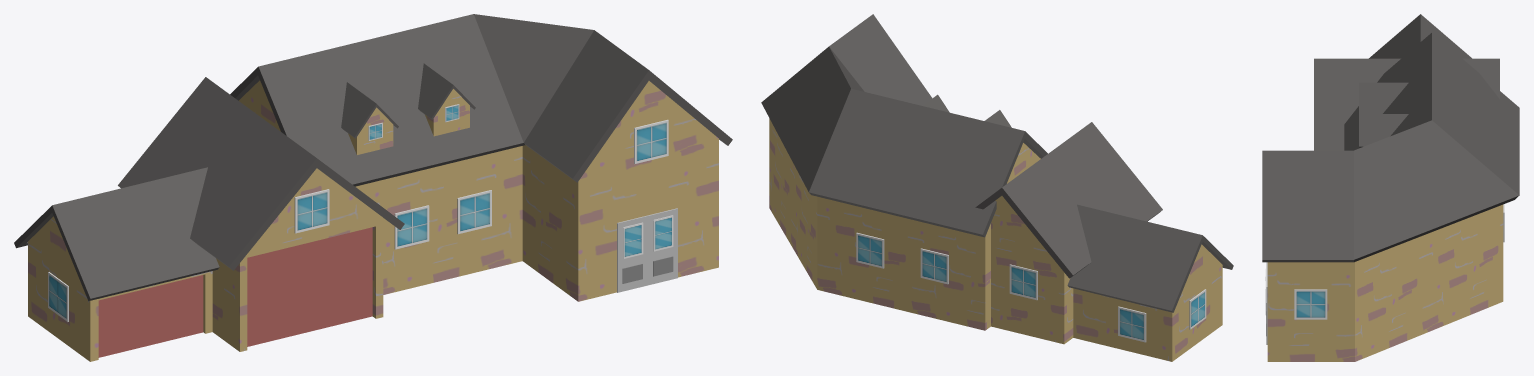
Rendered from House3.fbx.
The picture shows the model from 3 angles, left to right: view 1: azimuth 30°, elevation 25°; view 2: azimuth 150°, elevation 25°; view 3: azimuth 270°, elevation 25°; orthographic projection. The views are drawn at different scales.
Parts seen in each view (by area): view 1: House3; view 2: House3; view 3: House3.
Boxes of the visible parts, x1=… form: House3: x1=14, y1=14, x2=732, y2=361; House3: x1=761, y1=14, x2=1233, y2=361; House3: x1=1262, y1=14, x2=1519, y2=361.
Size of the model in its own units: 18.65 by 6.61 by 8.48.
